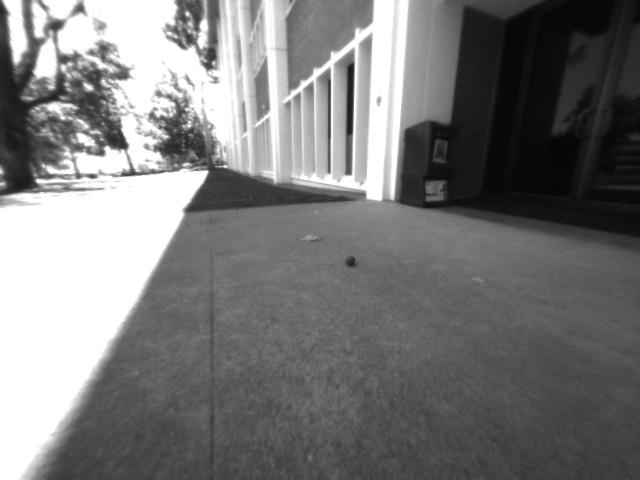dogtoy: (338, 247, 366, 274)
